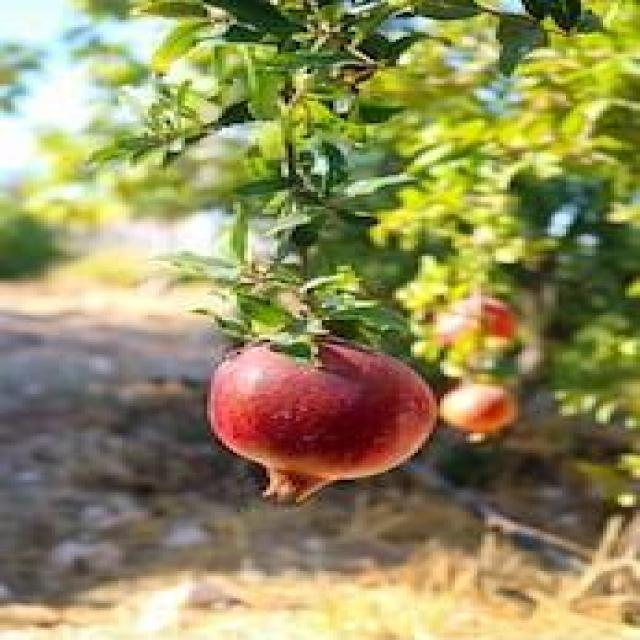Pomegranate: (205, 335, 441, 506)
